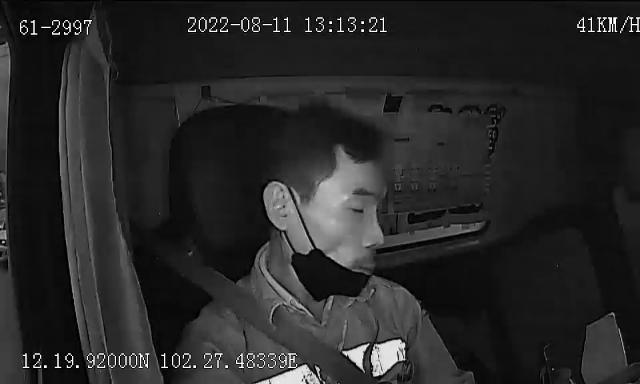SafeDriving: (419, 96, 459, 120)
Seatbelt: (196, 260, 368, 384)
